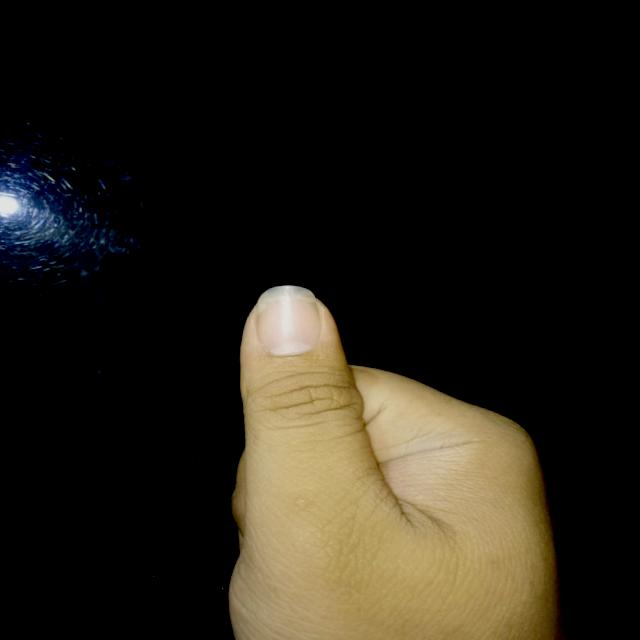sehat: (254, 298, 321, 355)
